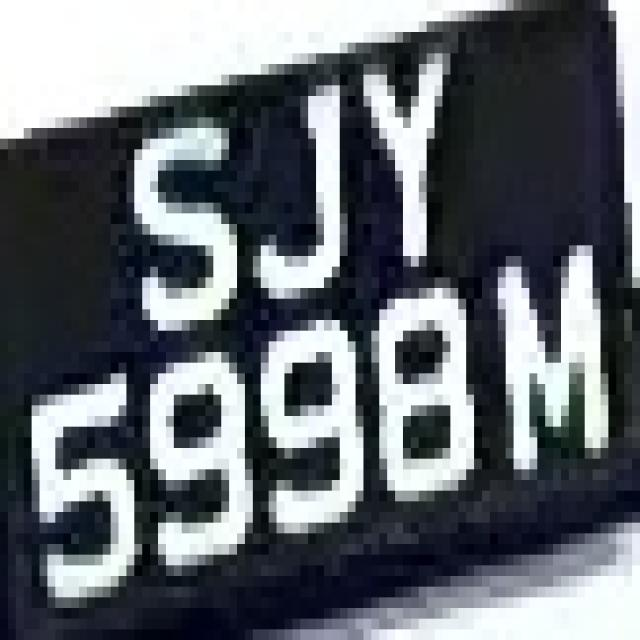5: (16, 363, 142, 629)
8: (363, 245, 482, 512)
9: (119, 309, 268, 576), (253, 298, 395, 554)
J: (237, 53, 371, 299)
M: (474, 224, 632, 512)
S: (119, 96, 237, 341)
Y: (332, 42, 490, 266)
